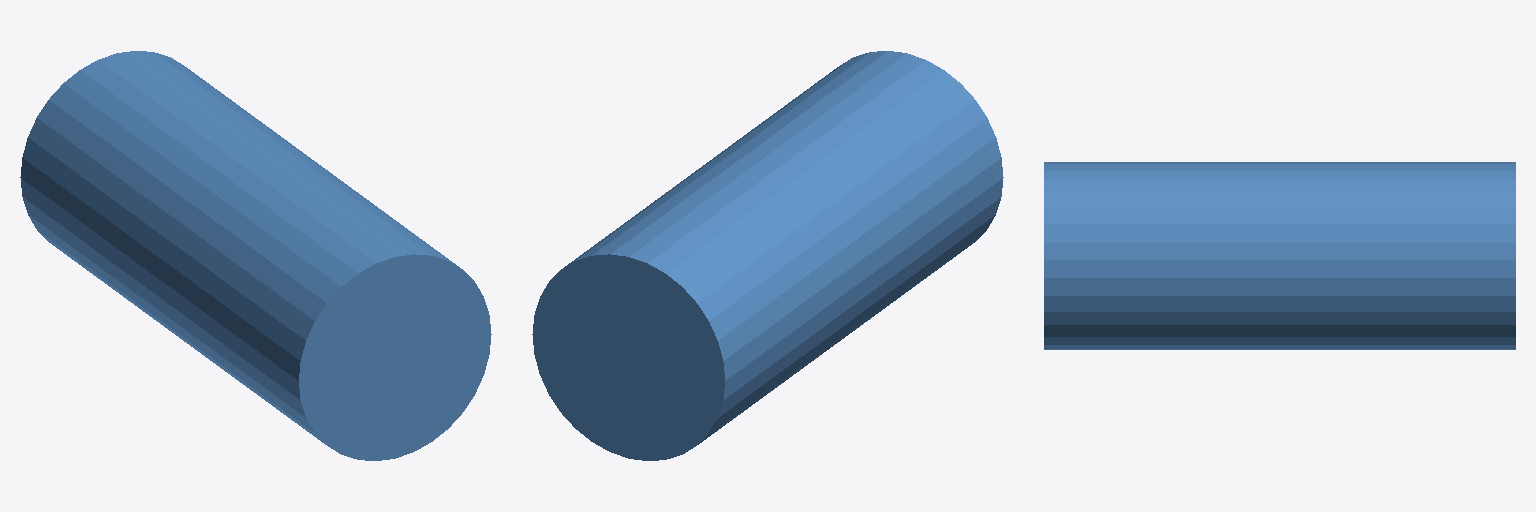
URDF robot description (ur5):
<?xml version="1.0" ?>
<!-- =================================================================================== -->
<!-- |    This document was autogenerated by xacro from ur5_robot.urdf.xacro           | -->
<!-- |    EDITING THIS FILE BY HAND IS NOT RECOMMENDED                                 | -->
<!-- =================================================================================== -->
<robot name="ur5" xmlns:xacro="http://www.ros.org/wiki/xacro">
  <!-- common stuff -->
  <gazebo>
    <plugin filename="libgazebo_ros_control.so" name="ros_control">
      <!--robotNamespace>/</robotNamespace-->
      <!--robotSimType>gazebo_ros_control/DefaultRobotHWSim</robotSimType-->
    </plugin>
    <!--
    <plugin name="gazebo_ros_power_monitor_controller" filename="libgazebo_ros_power_monitor.so">
      <alwaysOn>true</alwaysOn>
      <updateRate>1.0</updateRate>
      <timeout>5</timeout>
      <powerStateTopic>power_state</powerStateTopic>
      <powerStateRate>10.0</powerStateRate>
      <fullChargeCapacity>87.78</fullChargeCapacity>     
      <dischargeRate>-474</dischargeRate>
      <chargeRate>525</chargeRate>
      <dischargeVoltage>15.52</dischargeVoltage>
      <chargeVoltage>16.41</chargeVoltage>
    </plugin>
-->
  </gazebo>
  <!-- ur5 -->
  <!-- arm -->
  <link name="base_link">
    <visual>
      <geometry>
        <mesh filename="package://ur_description/meshes/ur5/visual/Base.dae"/>
      </geometry>
    </visual>
    <collision>
      <geometry>
        <mesh filename="package://ur_description/meshes/ur5/collision/Base.dae"/>
      </geometry>
    </collision>
    <inertial>
      <mass value="4.0"/>
      <origin xyz="0.0 0.0 0.0"/>
      <inertia ixx="0.00443333156" ixy="0.0" ixz="0.0" iyy="0.00443333156" iyz="0.0" izz="0.0072"/>
    </inertial>
  </link>
  
  <joint name="shoulder_pan_joint" type="revolute">
    <parent link="base_link"/>
    <child link="shoulder_link"/>
    <origin rpy="0.0 0.0 0.0" xyz="0.0 0.0 0.089159"/>
    <axis xyz="0 0 1"/>
    <limit effort="150.0" lower="-6.2831853" upper="6.2831853" velocity="3.15"/>
    <dynamics damping="0.0" friction="0.0"/>
  </joint>
  
  <link name="shoulder_link">
    <visual>
      <geometry>
        <mesh filename="package://ur_description/meshes/ur5/visual/Shoulder.dae"/>
      </geometry>
    </visual>
    <collision>
      <geometry>
        <mesh filename="package://ur_description/meshes/ur5/collision/Shoulder.dae"/>
      </geometry>
    </collision>
    <inertial>
      <mass value="3.7"/>
      <origin rpy="0 0 0" xyz="0.0 0.0 0.0"/>
      <inertia ixx="0.010267495893" ixy="0.0" ixz="0.0" iyy="0.010267495893" iyz="0.0" izz="0.00666"/>
    </inertial>
  </link>
  
  <joint name="shoulder_lift_joint" type="revolute">
    <parent link="shoulder_link"/>
    <child link="upper_arm_link"/>
    <origin rpy="0.0 1.570796325 0.0" xyz="0.0 0.13585 0.0"/>
    <axis xyz="0 1 0"/>
    <limit effort="150.0" lower="-6.2831853" upper="6.2831853" velocity="3.15"/>
    <dynamics damping="0.0" friction="0.0"/>
  </joint>
  
  <link name="upper_arm_link">
    <visual>
      <geometry>
        <mesh filename="package://ur_description/meshes/ur5/visual/UpperArm.dae"/>
      </geometry>
    </visual>
    <collision>
      <geometry>
        <mesh filename="package://ur_description/meshes/ur5/collision/UpperArm.dae"/>
      </geometry>
    </collision>
    <inertial>
      <mass value="8.393"/>
      <origin rpy="0 0 0" xyz="0.0 0.0 0.28"/>
      <inertia ixx="0.22689067591" ixy="0.0" ixz="0.0" iyy="0.22689067591" iyz="0.0" izz="0.0151074"/>
    </inertial>
  </link>
  
  <joint name="elbow_joint" type="revolute">
    <parent link="upper_arm_link"/>
    <child link="forearm_link"/>
    <origin rpy="0.0 0.0 0.0" xyz="0.0 -0.1197 0.425"/>
    <axis xyz="0 1 0"/>
    <limit effort="150.0" lower="-6.2831853" upper="6.2831853" velocity="3.15"/>
    <dynamics damping="0.0" friction="0.0"/>
  </joint>
  
  <link name="forearm_link">
    <visual>
      <geometry>
        <mesh filename="package://ur_description/meshes/ur5/visual/Forearm.dae"/>
      </geometry>
    </visual>
    <collision>
      <geometry>
        <mesh filename="package://ur_description/meshes/ur5/collision/Forearm.dae"/>
      </geometry>
    </collision>
    <inertial>
      <mass value="2.275"/>
      <origin rpy="0 0 0" xyz="0.0 0.0 0.25"/>
      <inertia ixx="0.049443313556" ixy="0.0" ixz="0.0" iyy="0.049443313556" iyz="0.0" izz="0.004095"/>
    </inertial>
  </link>
  
  <joint name="wrist_1_joint" type="revolute">
    <parent link="forearm_link"/>
    <child link="wrist_1_link"/>
    <origin rpy="0.0 1.570796325 0.0" xyz="0.0 0.0 0.39225"/>
    <axis xyz="0 1 0"/>
    <limit effort="28.0" lower="-6.2831853" upper="6.2831853" velocity="3.2"/>
    <dynamics damping="0.0" friction="0.0"/>
  </joint>
  
  <link name="wrist_1_link">
    <visual>
      <geometry>
        <mesh filename="package://ur_description/meshes/ur5/visual/Wrist1.dae"/>
      </geometry>
    </visual>
    <collision>
      <geometry>
        <mesh filename="package://ur_description/meshes/ur5/collision/Wrist1.dae"/>
      </geometry>
    </collision>
    <inertial>
      <mass value="1.219"/>
      <origin rpy="0 0 0" xyz="0.0 0.0 0.0"/>
      <inertia ixx="0.111172755531" ixy="0.0" ixz="0.0" iyy="0.111172755531" iyz="0.0" izz="0.21942"/>
    </inertial>
  </link>
  
  <joint name="wrist_2_joint" type="revolute">
    <parent link="wrist_1_link"/>
    <child link="wrist_2_link"/>
    <origin rpy="0.0 0.0 0.0" xyz="0.0 0.093 0.0"/>
    <axis xyz="0 0 1"/>
    <limit effort="28.0" lower="-6.2831853" upper="6.2831853" velocity="3.2"/>
    <dynamics damping="0.0" friction="0.0"/>
  </joint>
  
  <link name="wrist_2_link">
    <visual>
      <geometry>
        <mesh filename="package://ur_description/meshes/ur5/visual/Wrist2.dae"/>
      </geometry>
    </visual>
    <collision>
      <geometry>
        <mesh filename="package://ur_description/meshes/ur5/collision/Wrist2.dae"/>
      </geometry>
    </collision>
    <inertial>
      <mass value="1.219"/>
      <origin rpy="0 0 0" xyz="0.0 0.0 0.0"/>
      <inertia ixx="0.111172755531" ixy="0.0" ixz="0.0" iyy="0.111172755531" iyz="0.0" izz="0.21942"/>
    </inertial>
  </link>
  
  <joint name="wrist_3_joint" type="revolute">
    <parent link="wrist_2_link"/>
    <child link="wrist_3_link"/>
    <origin rpy="0.0 0.0 0.0" xyz="0.0 0.0 0.09465"/>
    <axis xyz="0 1 0"/>
    <limit effort="28.0" lower="-6.2831853" upper="6.2831853" velocity="3.2"/>
    <dynamics damping="0.0" friction="0.0"/>
  </joint>
  
  <link name="wrist_3_link">
    <visual>
      <geometry>
        <mesh filename="package://ur_description/meshes/ur5/visual/Wrist3.dae"/>
      </geometry>
    </visual>
    <collision>
      <geometry>
        <mesh filename="package://ur_description/meshes/ur5/collision/Wrist3.dae"/>
      </geometry>
    </collision>
    <inertial>
      <mass value="0.1879"/>
      <origin rpy="0 0 0" xyz="0.0 0.0 0.0"/>
      <inertia ixx="0.0171364731454" ixy="0.0" ixz="0.0" iyy="0.0171364731454" iyz="0.0" izz="0.033822"/>
    </inertial>
  </link>
  
  <joint name="ee_fixed_joint" type="fixed">
    <parent link="wrist_3_link"/>
    <child link="ee_link"/>
    <!--<origin rpy="0.0 0.0 1.570796325" xyz="0.0 0.0823 0.0"/>-->
    <origin rpy="1.570796325 0.0 0.0" xyz="0.0 0.13 0.0"/>
  </joint>
  
  <link name="ee_link"> <!-- CHANGED-->
      <visual>
          <geometry>
            <cylinder length="0.1" radius="0.02"/>
          </geometry>
          <material name="Blue">
            <color rgba="0.4 0.6 0.8 1"/>
          </material>
        </visual>
        <collision>
          <geometry>
            <cylinder length="0.1" radius="0.02"/>
          </geometry>
        </collision>
        <inertial>
          <mass value="0.1"/>
          <origin rpy="0 0 0" xyz="0.0 0.0 0.0"/>
          <inertia ixx="1.0" ixy="0.0" ixz="0.0" iyy="1.0" iyz="0.0" izz="1.0"/>
        </inertial>
  </link>
  
  <transmission name="shoulder_pan_trans">
  <type>transmission_interface/SimpleTransmission</type>
    <joint name="shoulder_pan_joint"/>
    <actuator name="shoulder_pan_motor">
      <hardwareInterface>EffortJointInterface</hardwareInterface>
      <mechanicalReduction>1</mechanicalReduction>
    </actuator>
  </transmission>
  <transmission name="shoulder_lift_trans">
    <type>transmission_interface/SimpleTransmission</type>
    <joint name="shoulder_lift_joint"/>
    <actuator name="shoulder_lift_motor">
      <hardwareInterface>EffortJointInterface</hardwareInterface>
      <mechanicalReduction>1</mechanicalReduction>
    </actuator>
  </transmission>
  <transmission name="elbow_trans">
    <type>transmission_interface/SimpleTransmission</type>
    <joint name="elbow_joint"/>
    <actuator name="elbow_motor">
      <hardwareInterface>EffortJointInterface</hardwareInterface>
      <mechanicalReduction>1</mechanicalReduction>
    </actuator>
  </transmission>
  <transmission name="wrist_1_trans">
    <type>transmission_interface/SimpleTransmission</type>
    <joint name="wrist_1_joint"/>
    <actuator name="wrist_1_motor">
      <hardwareInterface>EffortJointInterface</hardwareInterface>
      <mechanicalReduction>1</mechanicalReduction>
    </actuator>
  </transmission>
  <transmission name="wrist_2_trans">
    <type>transmission_interface/SimpleTransmission</type>
    <joint name="wrist_2_joint"/>
    <actuator name="wrist_2_motor">
      <hardwareInterface>EffortJointInterface</hardwareInterface>
      <mechanicalReduction>1</mechanicalReduction>
    </actuator>
  </transmission>
  <transmission name="wrist_3_trans">
    <type>transmission_interface/SimpleTransmission</type>
    <joint name="wrist_3_joint"/>
    <actuator name="wrist_3_motor">
      <hardwareInterface>EffortJointInterface</hardwareInterface>
      <mechanicalReduction>1</mechanicalReduction>
    </actuator>
  </transmission>
</robot>

--- Render facts (derived) ---
Views: 3 orthographic renders of the robot side by side, from view 1: azimuth 30°, elevation 25°; view 2: azimuth 150°, elevation 25°; view 3: azimuth 270°, elevation 25°.
Model ur5 with 8 links and 7 joints (6 revolute, 1 fixed), rooted at base_link, posed every joint at zero.
Visible links, largest first — view 1: ee_link; view 2: ee_link; view 3: ee_link.
Boxes of the visible links, x1,y1,x2,y2 form: ee_link: [20, 51, 491, 460]; ee_link: [532, 51, 1003, 460]; ee_link: [1044, 162, 1515, 349].
Bounding box of the posed robot: 0.04 × 0.1 × 0.04 m (x, y, z).
0 mesh visuals loaded from 7 distinct referenced files (none loaded); not drawn: 7 (reference not matched to a file when rendering).